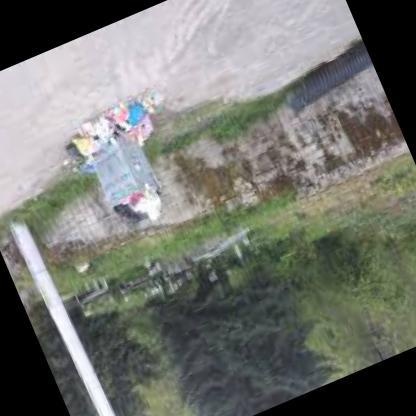Garbage: (58, 94, 158, 169), (113, 180, 166, 230)
